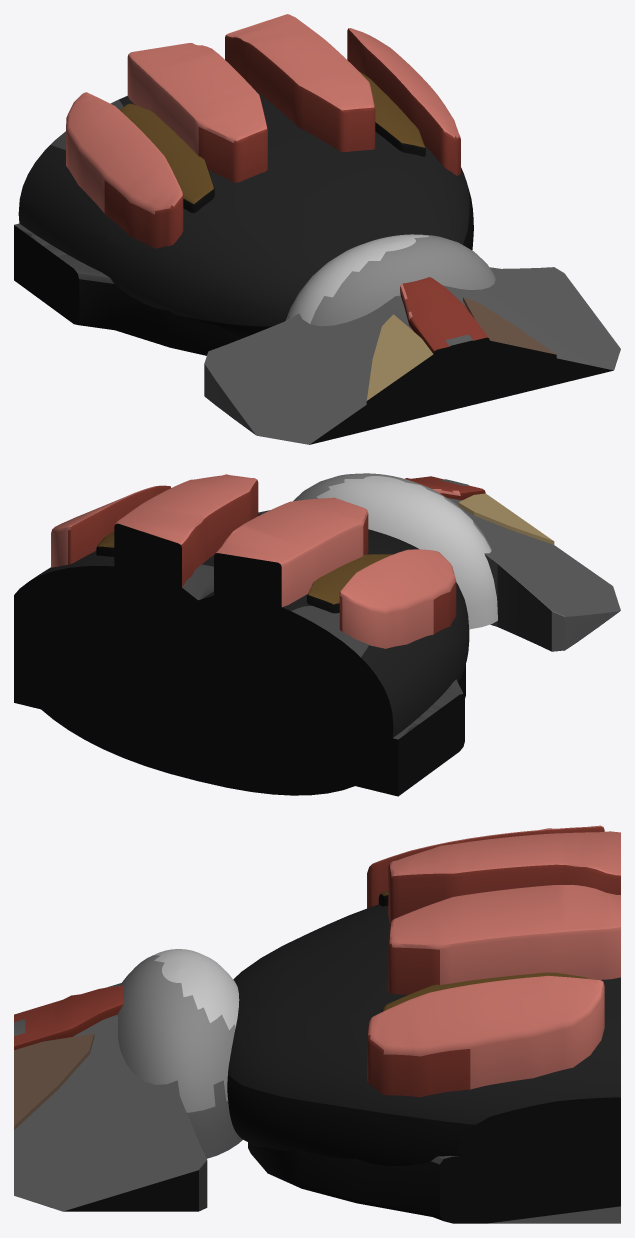
File: tusk_boss_242.glb
3 views of the same model, one above another, from view 1: azimuth 30°, elevation 25°; view 2: azimuth 150°, elevation 25°; view 3: azimuth 270°, elevation 25° (orthographic). The views are drawn at different scales.
Parts seen in each view (by area): view 1: tusk_boss_242; view 2: tusk_boss_242; view 3: tusk_boss_242.
Part boxes in pixels (bbox=[...]): tusk_boss_242: bbox=[14, 14, 620, 444]; tusk_boss_242: bbox=[14, 473, 620, 796]; tusk_boss_242: bbox=[14, 825, 620, 1223].
Size of the model in its own units: 24 by 14.44 by 28.
